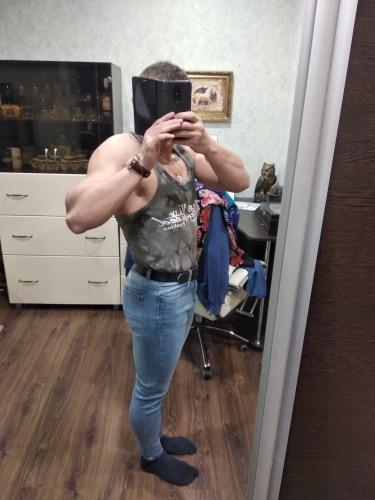jeans: (112, 262, 202, 451)
